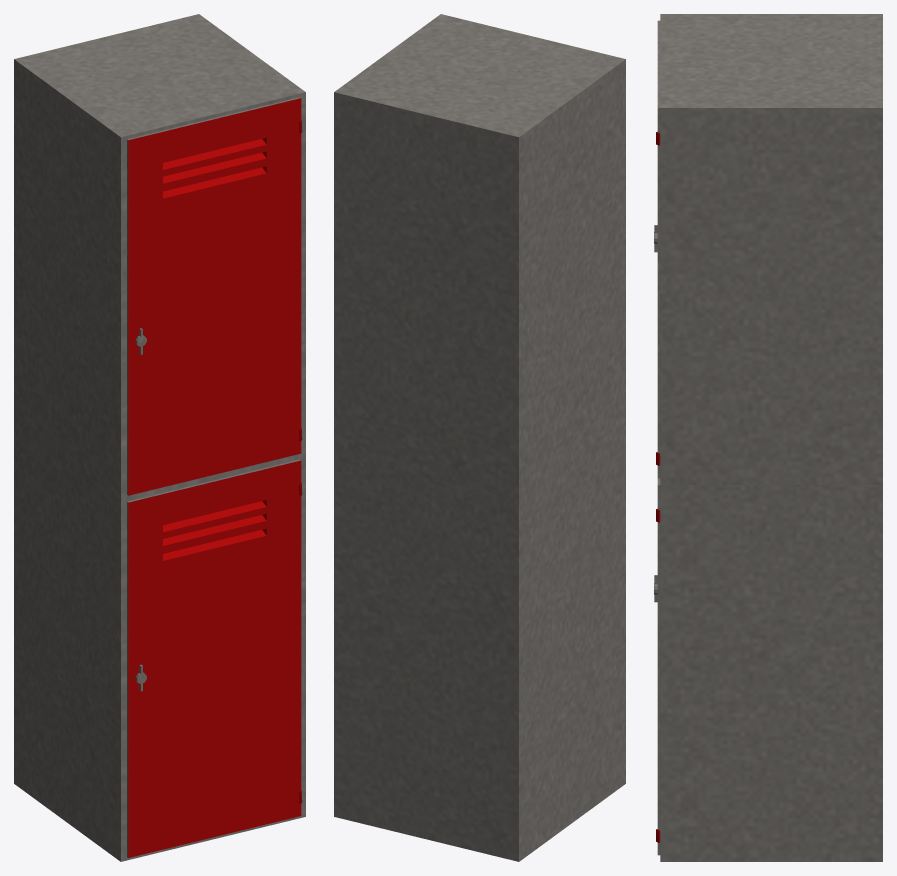
Rendered from locker.obj.
3 views of the same model, side by side, from view 1: azimuth 30°, elevation 25°; view 2: azimuth 150°, elevation 25°; view 3: azimuth 270°, elevation 25° (orthographic). The views are drawn at different scales.
Parts seen in each view (by area): view 1: Cylinder; view 2: Cylinder; view 3: Cylinder.
Boxes of the visible parts, x1,y1,x2,y2 form: Cylinder: [14, 14, 305, 861]; Cylinder: [334, 14, 625, 861]; Cylinder: [654, 14, 882, 861].
Size of the model in its own units: 0.8 by 2.99 by 0.8228.
2 materials, 2 textured.
